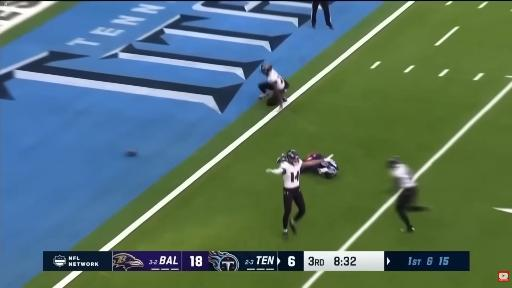Helmet: (286, 150, 299, 164), (387, 156, 401, 168), (325, 165, 337, 178), (260, 64, 273, 75)
Jersey: (302, 154, 338, 178), (391, 164, 417, 188), (280, 160, 302, 188), (267, 69, 285, 89)
Player: (267, 150, 332, 238), (388, 157, 429, 232), (259, 64, 289, 106), (302, 159, 338, 178)
